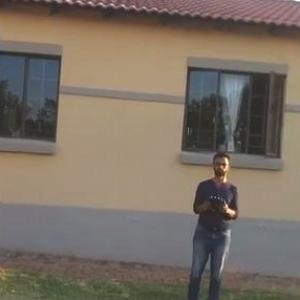follow: (183, 146, 246, 299)
